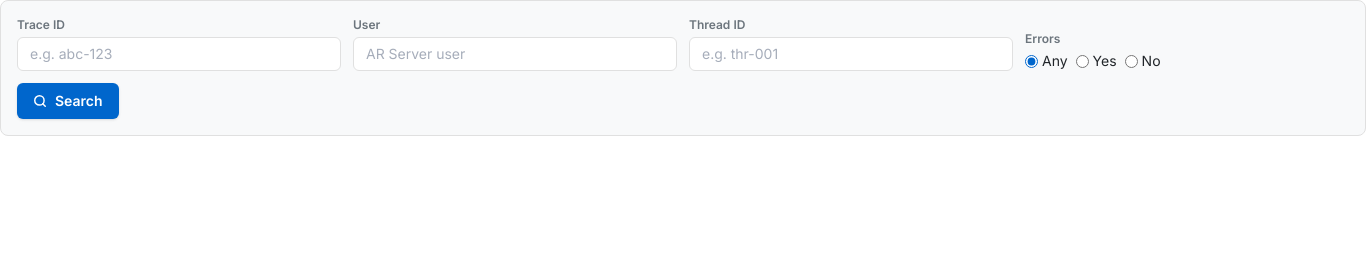
Test: TraceSearch › shows result count after submission
This screenshot has width=1366, height=278.
Click the button "Search".
click(68, 101)  # box left=17, top=83, right=118, bottom=119
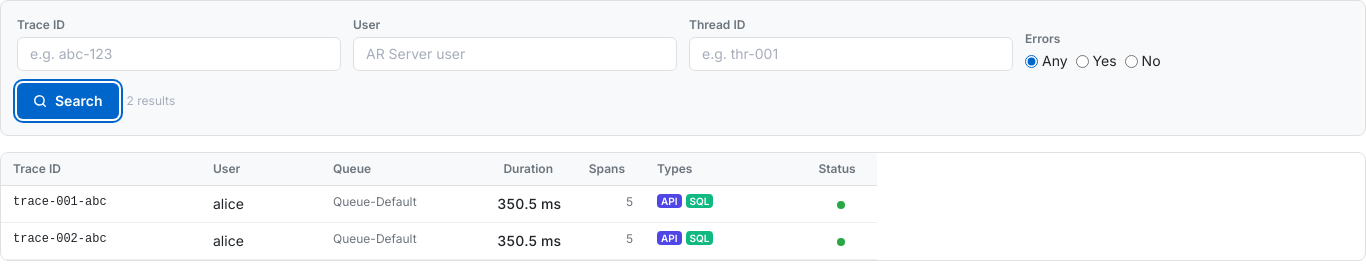
Now the text "2 results" is shown, box left=126, top=93, right=175, bottom=109
